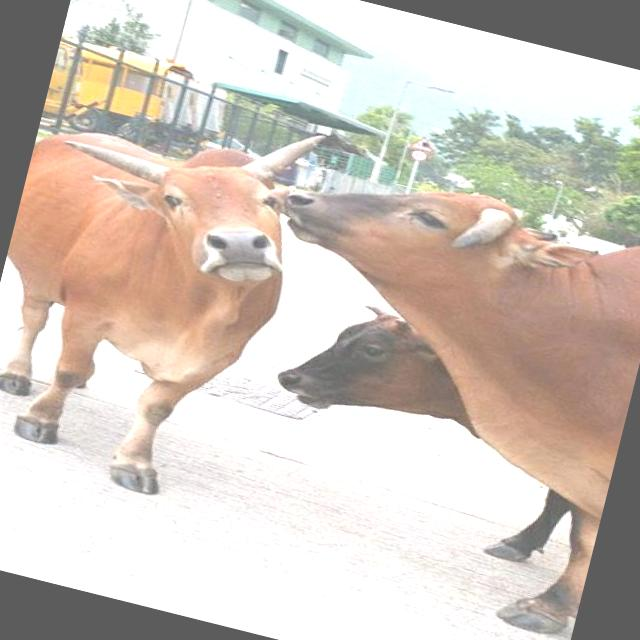Vehicle: (55, 36, 225, 164)
